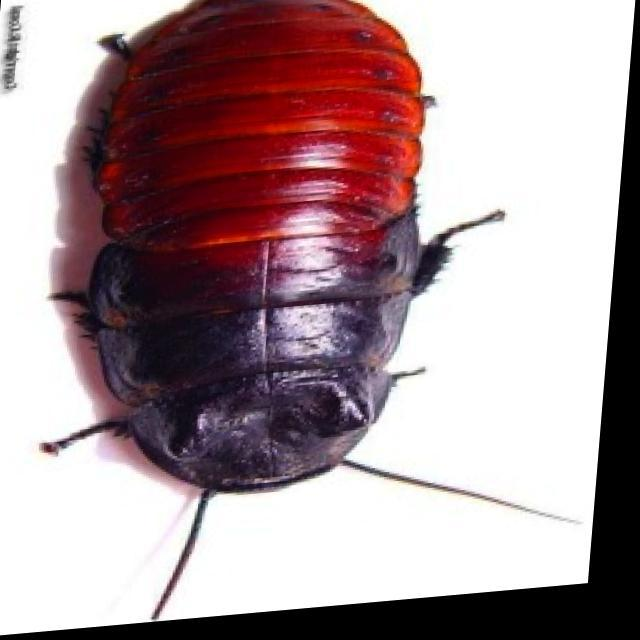cockroach: (24, 0, 477, 535)
